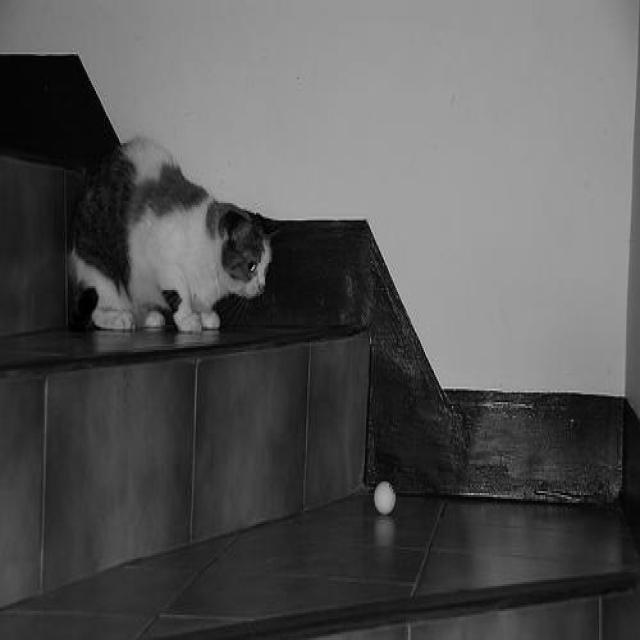ping-pong-ball: (372, 482, 397, 517)
